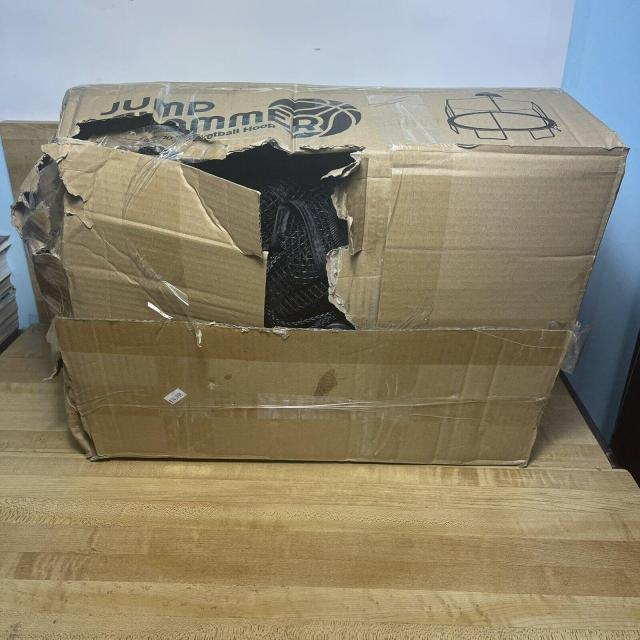damaged: (204, 134, 366, 338), (68, 109, 168, 143)
